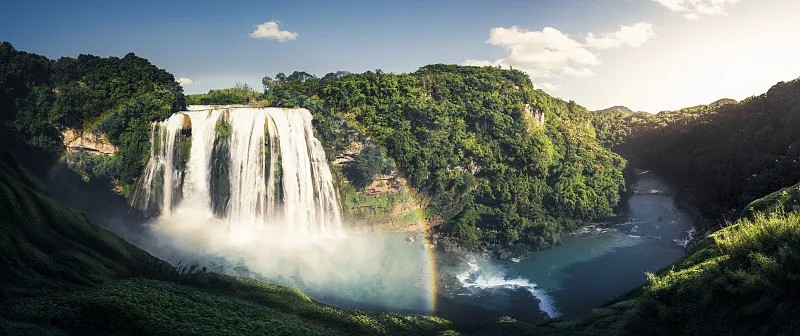Huangguoshu: (130, 104, 343, 237)
